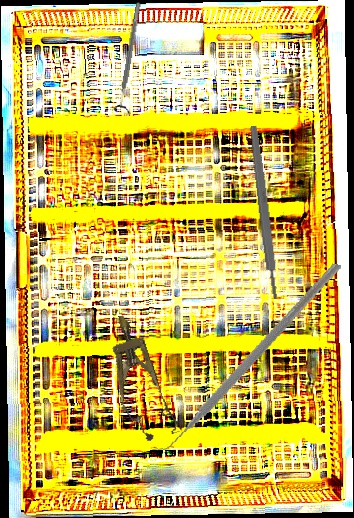Chopper: (143, 234, 342, 479)
Fixation Ring: (112, 0, 148, 115)
Scalpel Handle: (247, 125, 281, 300)
Speculum: (96, 308, 183, 446)
